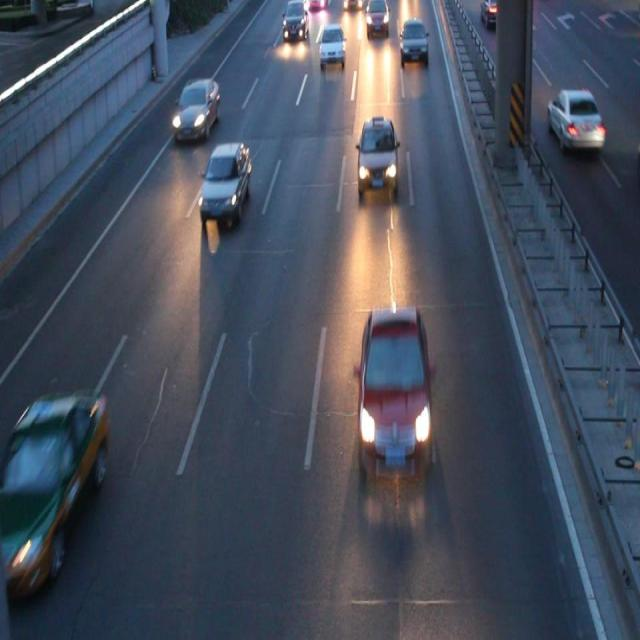car: (1, 394, 105, 594), (356, 306, 431, 477), (199, 144, 250, 216), (546, 91, 603, 148), (356, 121, 396, 195), (172, 80, 220, 136), (400, 20, 428, 61), (282, 1, 308, 39), (318, 25, 344, 62), (480, 1, 511, 29), (365, 1, 388, 33)
